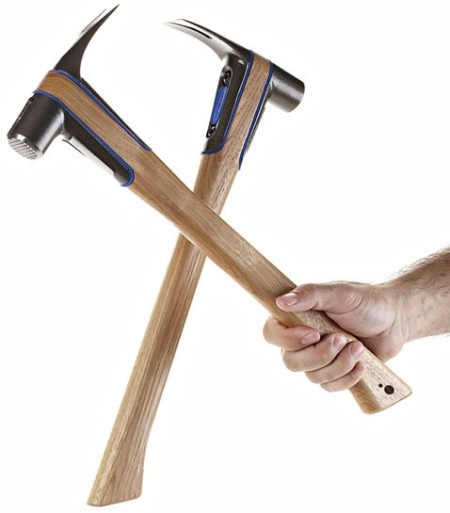hammer: (13, 5, 409, 411), (80, 17, 309, 504)
